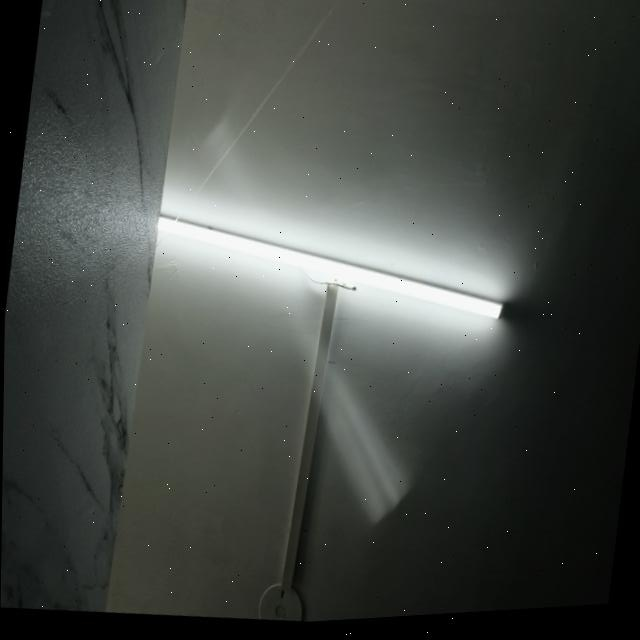fluorescent tube: (144, 177, 522, 352)
